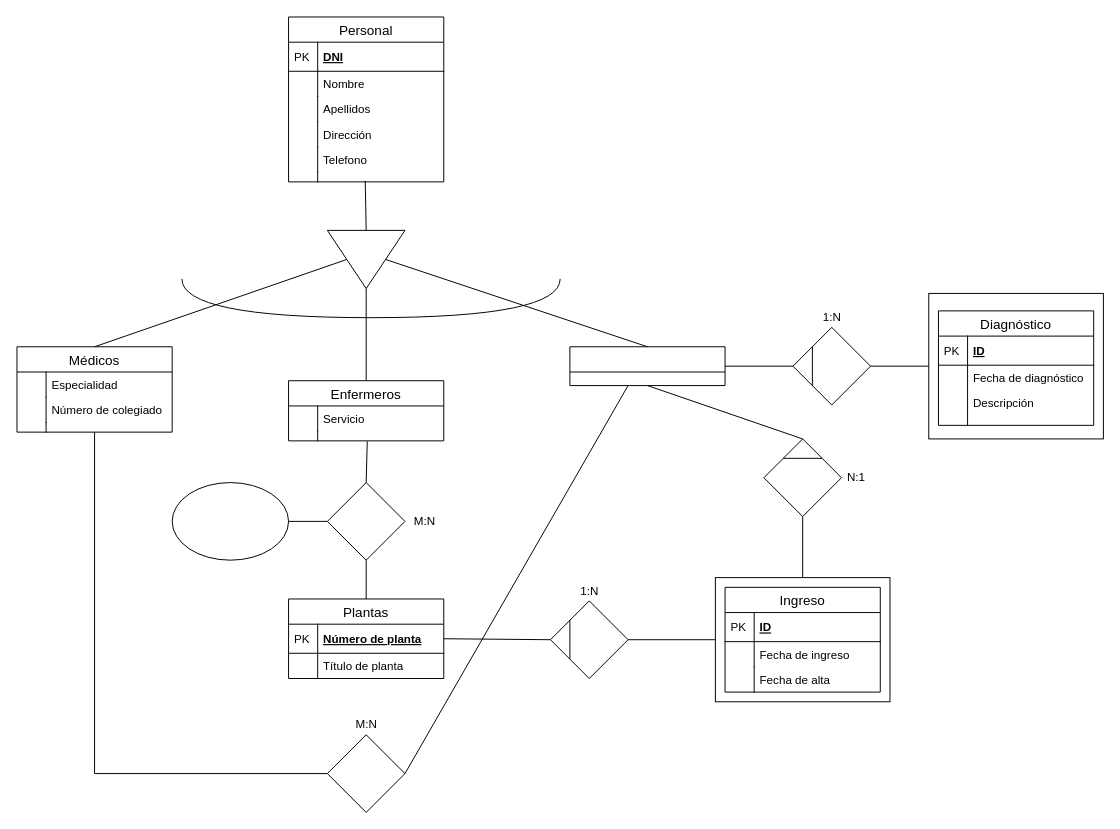
This 1120x829 diagram has some shape labels left out. The centre of each missing label's shape, as x and y in pixels:
"Fecha" belongs at (x=230, y=521).
"Pacientes" belongs at (x=647, y=366).
